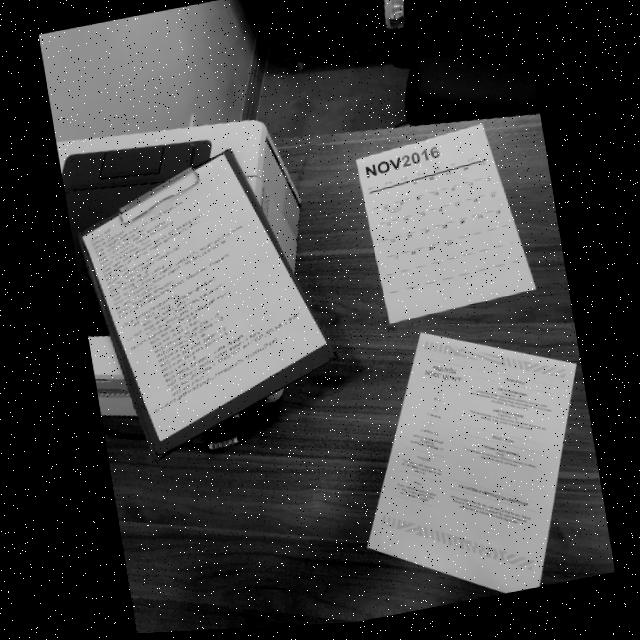document: (83, 154, 327, 441), (368, 333, 576, 594), (356, 124, 535, 323)
